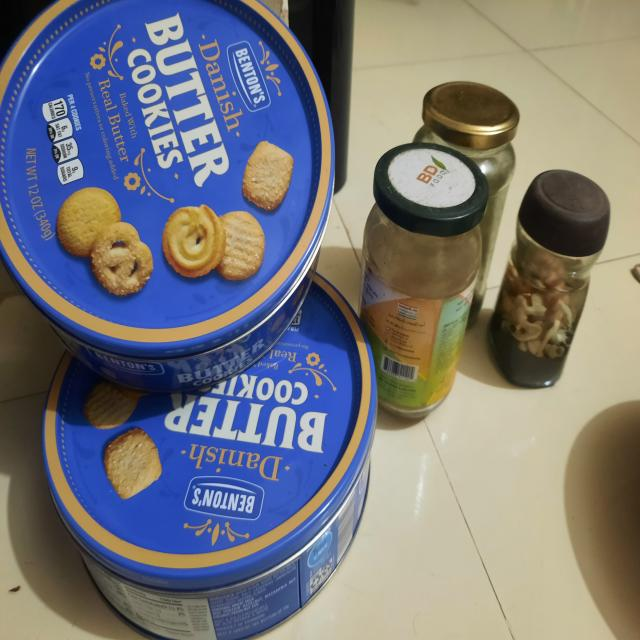Glass: (362, 209, 567, 423)
can: (0, 0, 361, 633)
